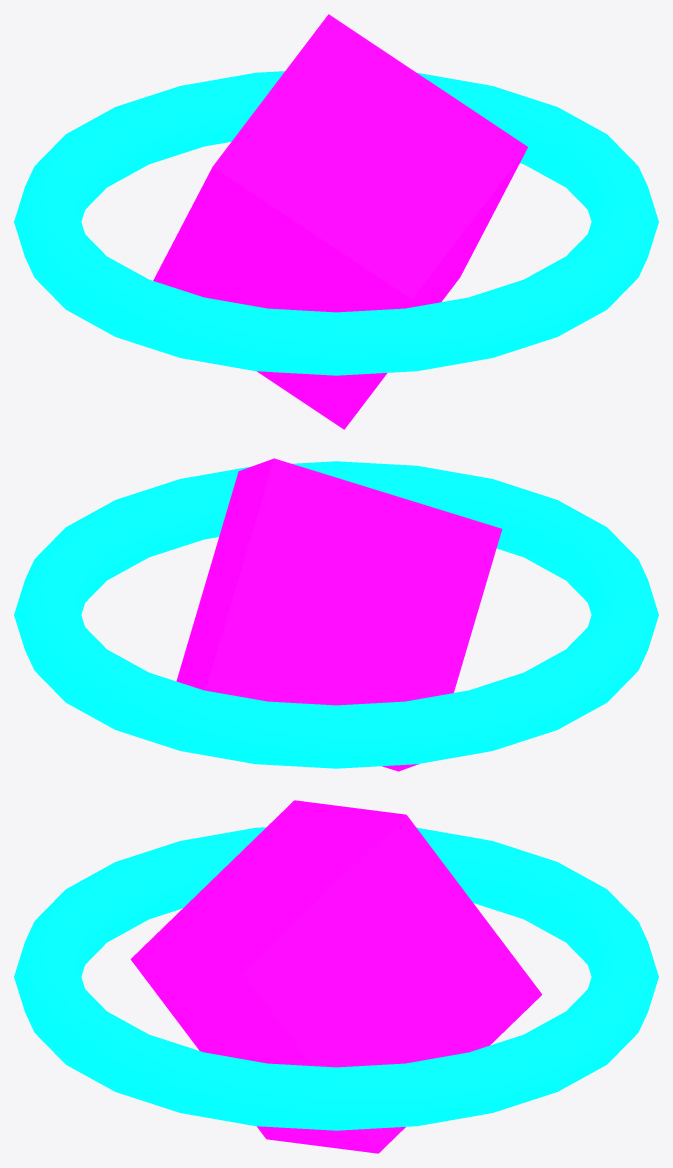
The model's file is deco_neon_3.glb.
The picture shows the model from 3 angles, top to bottom: view 1: azimuth 30°, elevation 25°; view 2: azimuth 150°, elevation 25°; view 3: azimuth 270°, elevation 25°; orthographic projection.
Parts seen in each view (by area): view 1: deco_neon_3; view 2: deco_neon_3; view 3: deco_neon_3.
Part boxes in pixels (x1,y1,x2,y2): deco_neon_3: (14, 14, 658, 429); deco_neon_3: (14, 458, 658, 771); deco_neon_3: (14, 800, 658, 1153).
Bounding box in the file's own units: 6.7 × 4.03 × 6.7.
